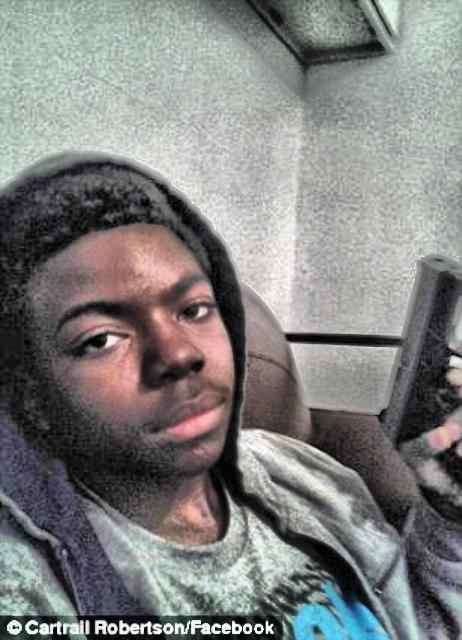pistol: (375, 250, 461, 460)
